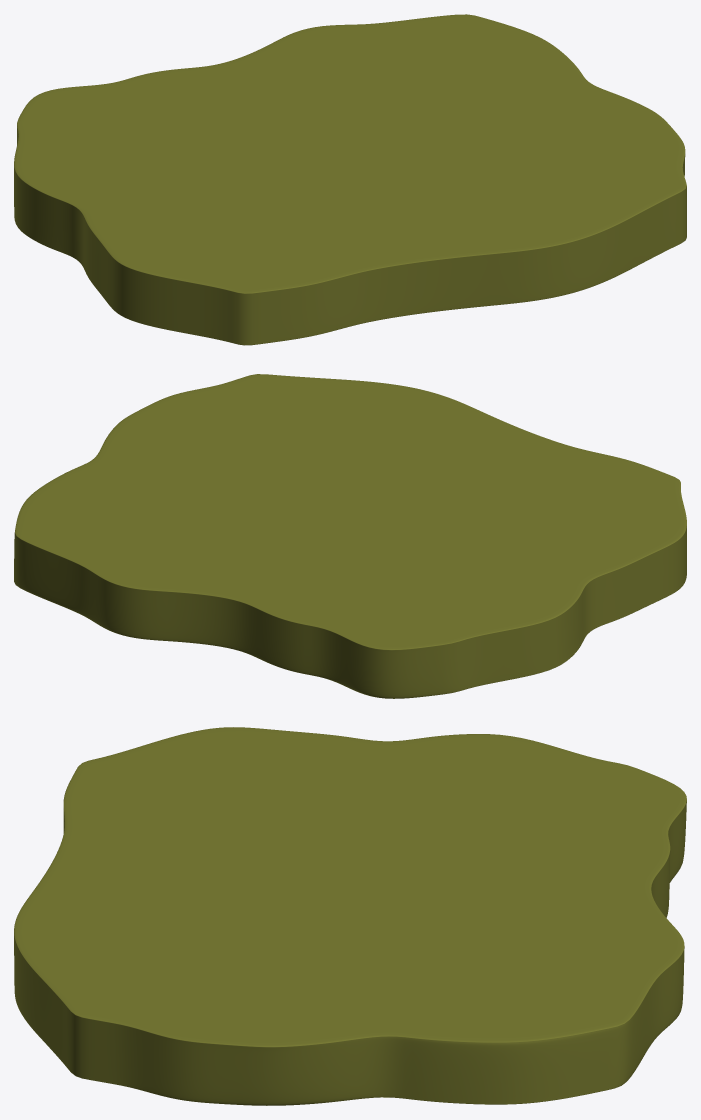
3 renders of one model, top to bottom at view 1: azimuth 30°, elevation 25°; view 2: azimuth 150°, elevation 25°; view 3: azimuth 270°, elevation 25°, orthographic. The views are drawn at different scales.
Parts seen in each view (by area): view 1: Plane.009; view 2: Plane.009; view 3: Plane.009.
Boxes of the visible parts, x1,y1,x2,y2 form: Plane.009: (14,14,686,345); Plane.009: (14,374,686,698); Plane.009: (14,727,686,1105).
Bounding box in the file's own units: 2146 × 194 × 1908.
